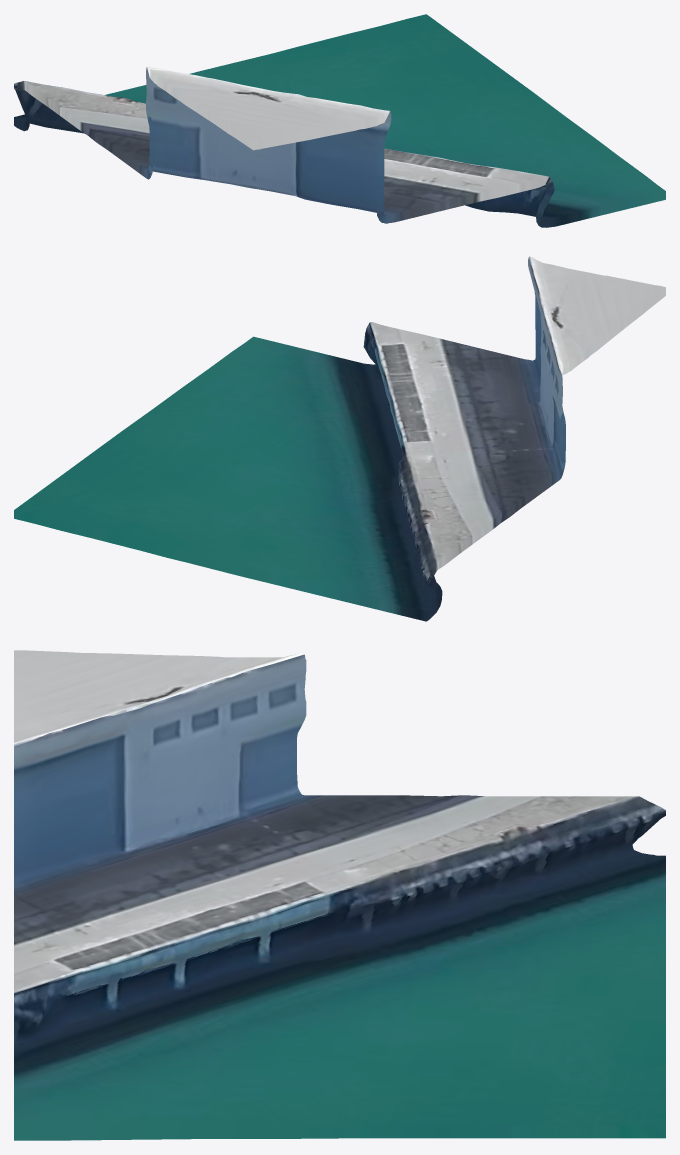
The model's file is z20-167771-405190-h0-yup-uvflip-v3-world.glb.
3 renders of one model, top to bottom at view 1: azimuth 30°, elevation 25°; view 2: azimuth 150°, elevation 25°; view 3: azimuth 270°, elevation 25°, orthographic. The views are drawn at different scales.
Bounding box in the file's own units: 30.16 × 11.12 × 30.32.
Materials: 1 (1 with a texture image).
